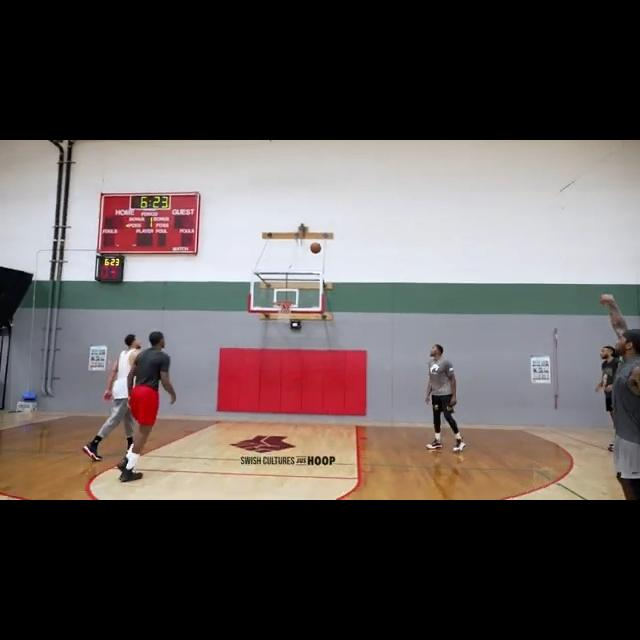basketball: (310, 241, 322, 255)
hoop: (273, 299, 293, 324)
person: (113, 331, 179, 482), (596, 294, 640, 500), (82, 334, 142, 461), (417, 343, 466, 452), (597, 345, 631, 458)
